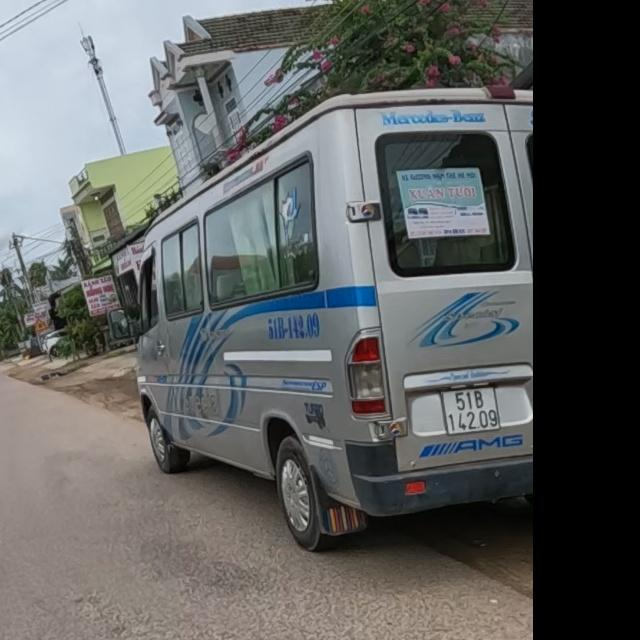license-plate: (440, 384, 501, 437)
